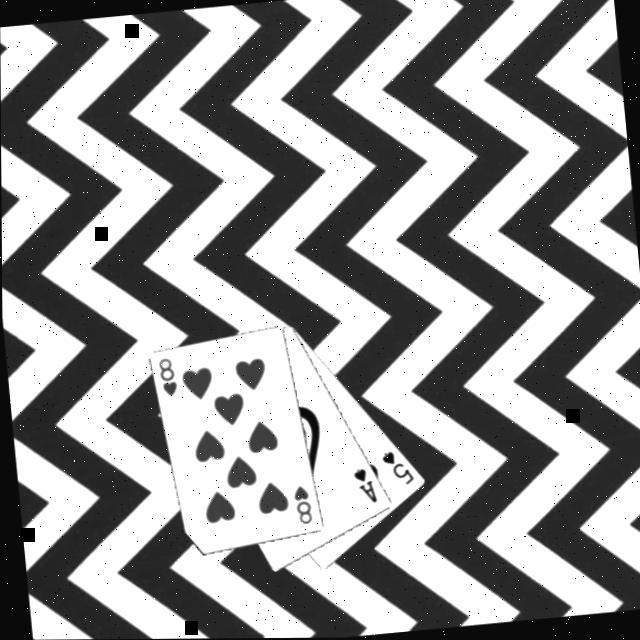5S: (375, 448, 414, 491)
8H: (287, 483, 313, 530), (152, 356, 178, 402)
AS: (348, 466, 377, 508)
